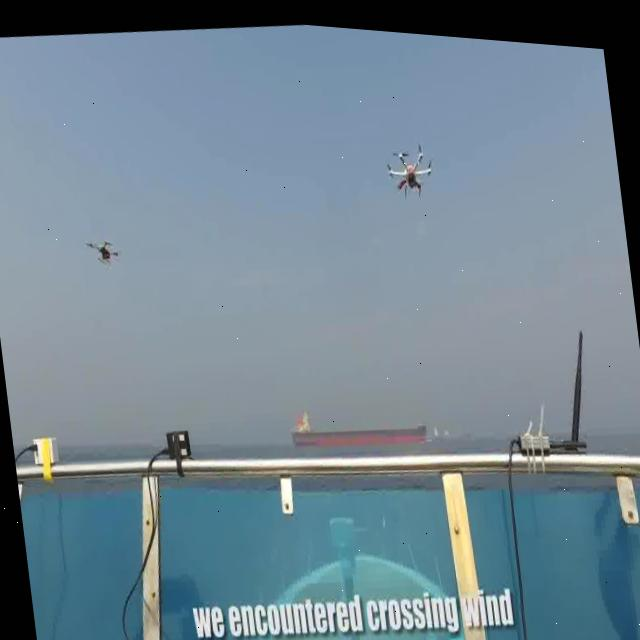drone: (84, 227, 122, 267)
